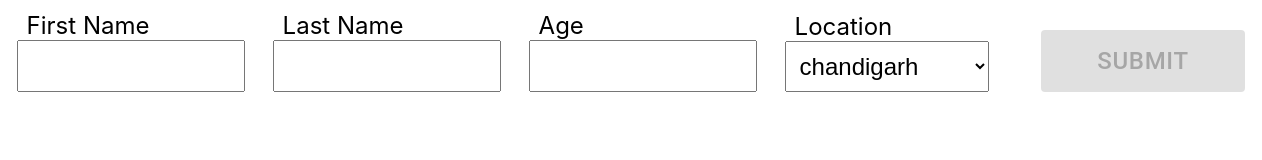
Test: Add User Test Cases › firstname should not be more then 15 character long
The width and height of the screenshot is (1262, 160).
Type "testing testinting testinting testinting testin" into the field labelled "First Name" at (131, 66), box [17,40,245,92]
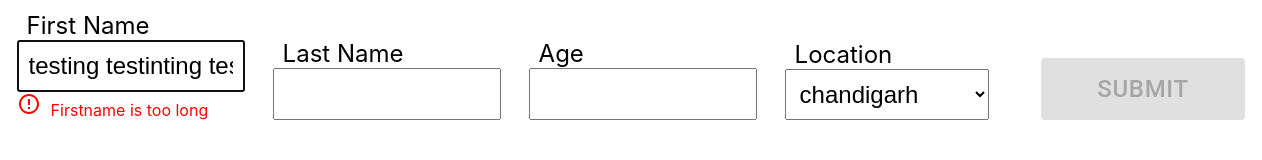
Now the text "Firstname is too long" is shown, box [17,100,208,120]
